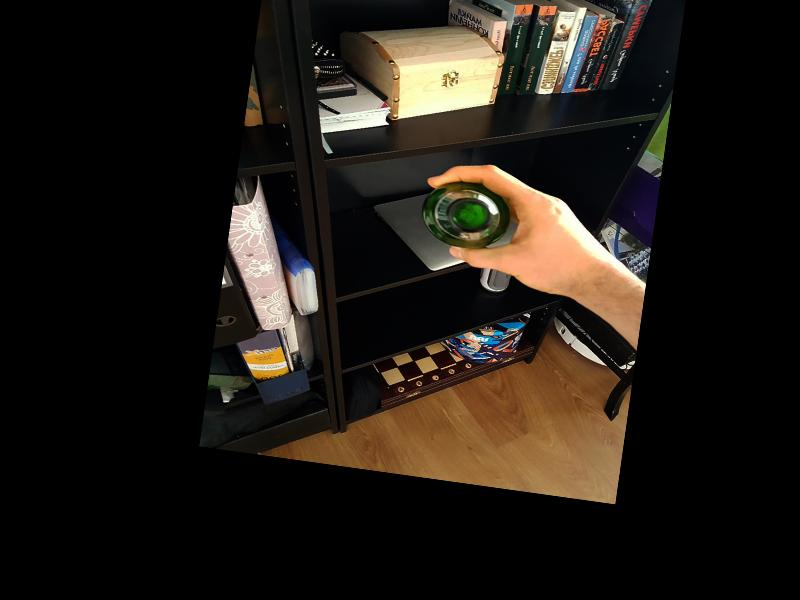Beer: (422, 177, 512, 254)
